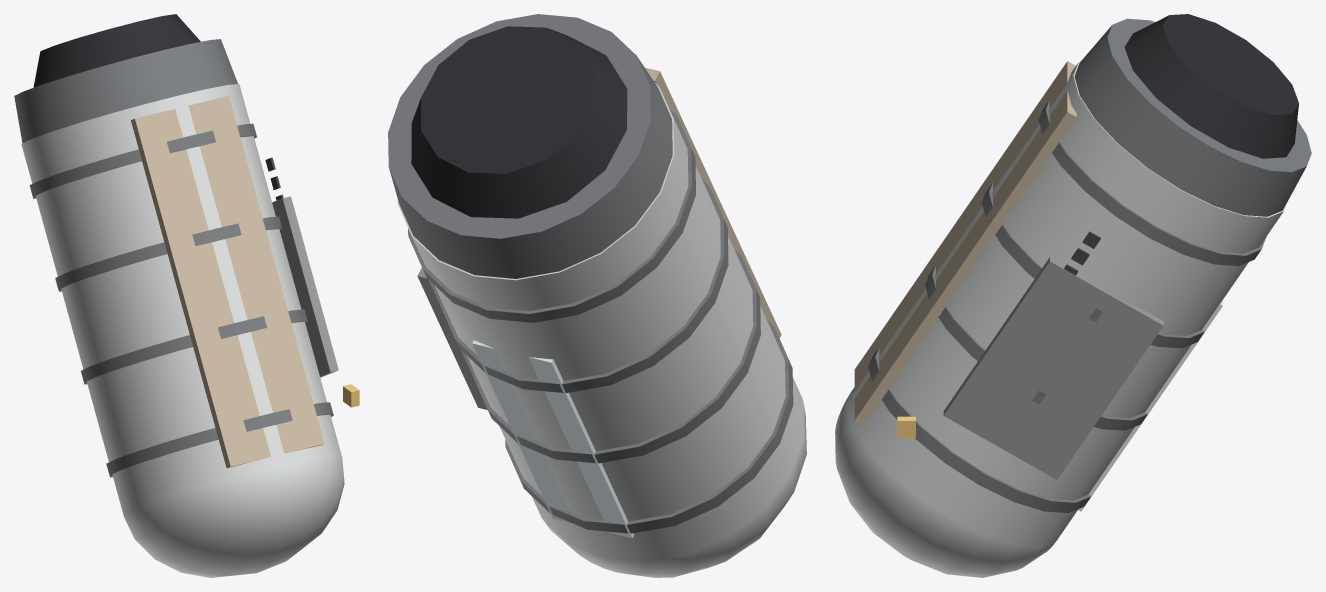
File: ring_capsule_up.glb
3 views of the same model, side by side, from view 1: azimuth 30°, elevation 25°; view 2: azimuth 150°, elevation 25°; view 3: azimuth 270°, elevation 25° (orthographic). The views are drawn at different scales.
Parts seen in each view (by area): view 1: cap_hull, cap_dust, cap_hull.001, cap_rib, cap_dark, cap_hatch, cap_rib.004, cap_rib.002, cap_rib.003, cap_rib.001; view 2: cap_hull, cap_dark, cap_rib, cap_rime, cap_hull.001, cap_rib.001, cap_rib.002, cap_rib.003, cap_rib.004, cap_dust, cap_hatch; view 3: cap_hull, cap_hatch, cap_rib, cap_dark, cap_dust, cap_hull.001, cap_rib.001, cap_rib.004, cap_rib.002, cap_rib.003, cap_rime.
Boxes of the visible parts, <box> form: cap_hull: <box>21,84,341,514</box>; cap_dust: <box>131,95,324,468</box>; cap_hull.001: <box>123,455,344,577</box>; cap_rib: <box>14,39,237,142</box>; cap_dark: <box>33,14,200,87</box>; cap_hatch: <box>272,196,338,377</box>; cap_rib.004: <box>106,402,333,477</box>; cap_rib.002: <box>55,216,282,291</box>; cap_rib.003: <box>81,309,307,384</box>; cap_rib.001: <box>29,123,256,198</box>; cap_hull: <box>397,82,803,561</box>; cap_dark: <box>411,26,627,218</box>; cap_rib: <box>388,14,672,278</box>; cap_rime: <box>472,340,634,538</box>; cap_hull.001: <box>542,402,806,577</box>; cap_rib.001: <box>408,109,695,322</box>; cap_rib.002: <box>440,179,728,392</box>; cap_rib.003: <box>473,249,760,463</box>; cap_rib.004: <box>505,320,793,533</box>; cap_dust: <box>645,67,781,338</box>; cap_hatch: <box>417,268,487,409</box>; cap_hull: <box>846,61,1286,546</box>; cap_hatch: <box>943,257,1163,479</box>; cap_rib: <box>1074,18,1311,216</box>; cap_dark: <box>1124,14,1298,158</box>; cap_dust: <box>854,61,1076,425</box>; cap_hull.001: <box>835,392,1056,577</box>; cap_rib.001: <box>1038,100,1266,265</box>; cap_rib.004: <box>868,347,1091,512</box>; cap_rib.002: <box>982,182,1204,348</box>; cap_rib.003: <box>925,265,1147,430</box>; cap_rime: <box>1078,300,1222,511</box>.
Size of the model in its own units: 1.95 by 4.44 by 3.56.
